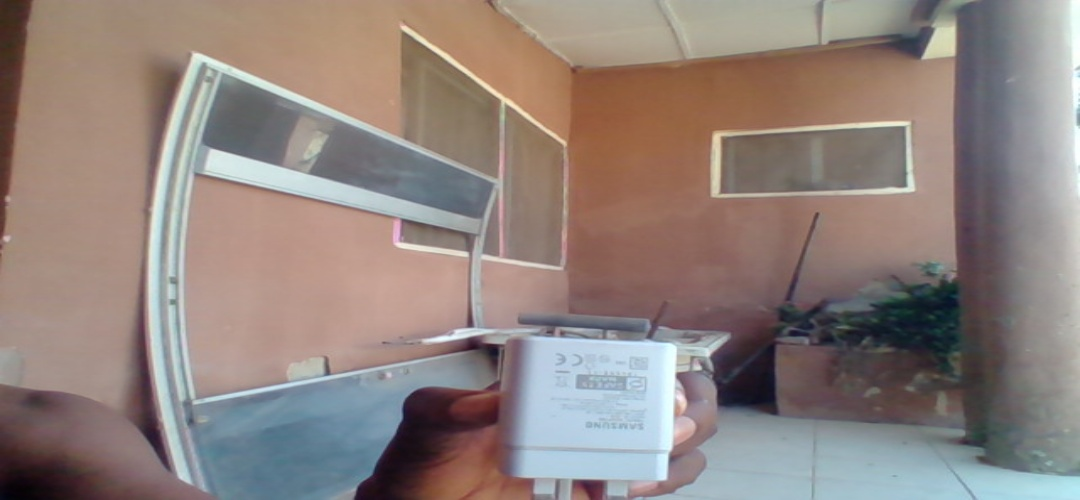phone_charger: (497, 335, 674, 498)
